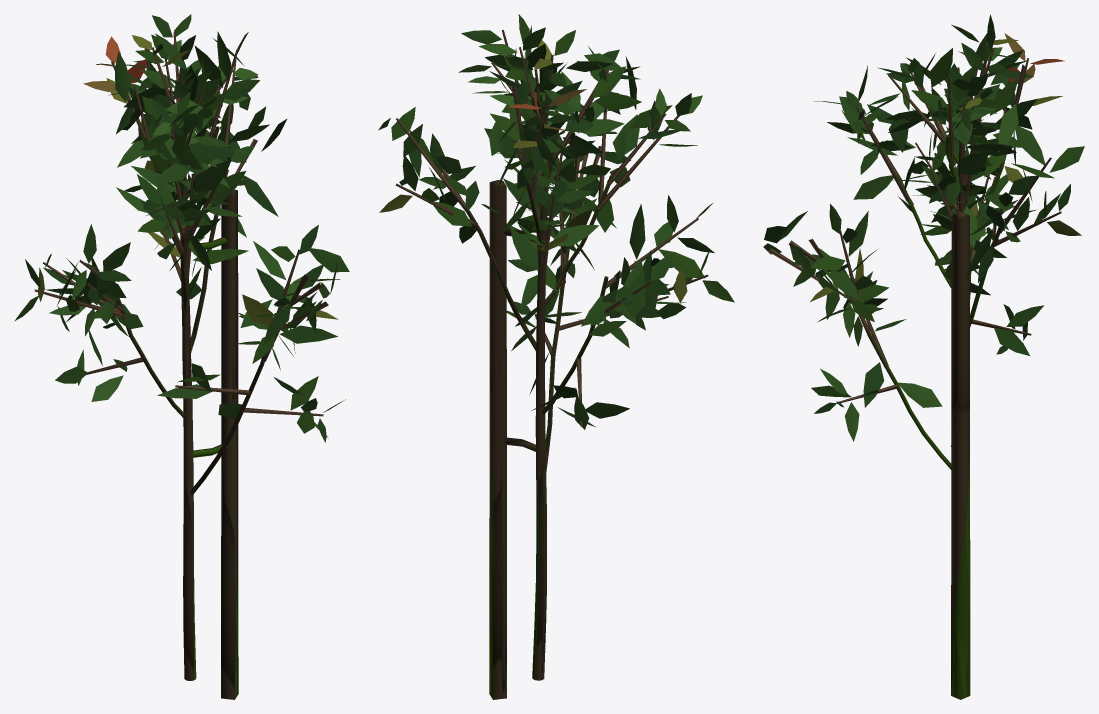
Rendered from pitangueira_folhas_2anos.glb.
3 views of the same model, side by side, from view 1: azimuth 30°, elevation 25°; view 2: azimuth 150°, elevation 25°; view 3: azimuth 270°, elevation 25° (orthographic). The views are drawn at different scales.
Visible parts, largest first — view 1: Pitangueira; view 2: Pitangueira; view 3: Pitangueira.
Part boxes in pixels (x1,y1,x2,y2): Pitangueira: [14, 14, 349, 699]; Pitangueira: [378, 14, 734, 699]; Pitangueira: [763, 14, 1084, 699].
Bounding box in the file's own units: 0.3146 × 0.6944 × 0.3103.
Materials: 3 (3 with a texture image).
